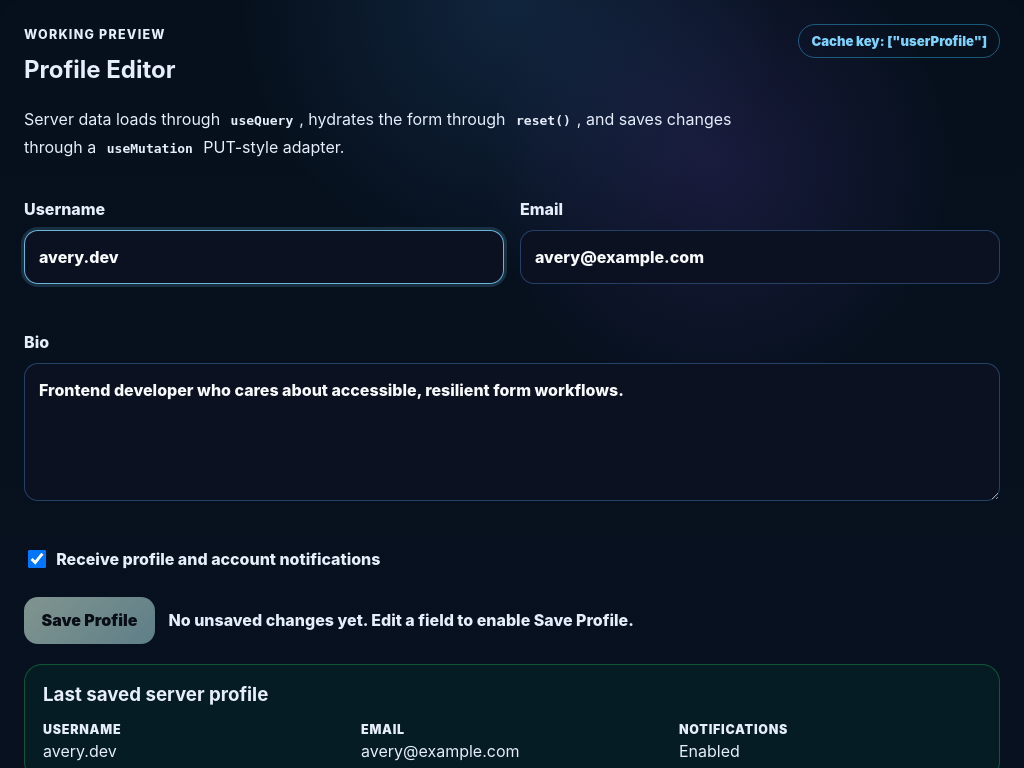
Scenario: Week 7 Assignment 3 - React Hook Form with TanStack Query › edge case: keeps Save Profile disabled until the form is dirty
This screenshot has width=1024, height=768.
Expected: the button "Save Profile" is disabled, [24, 597, 155, 644]
Replace the text in the field labelled "Username" with "avery.updated" at (264, 257), box [24, 230, 504, 284]
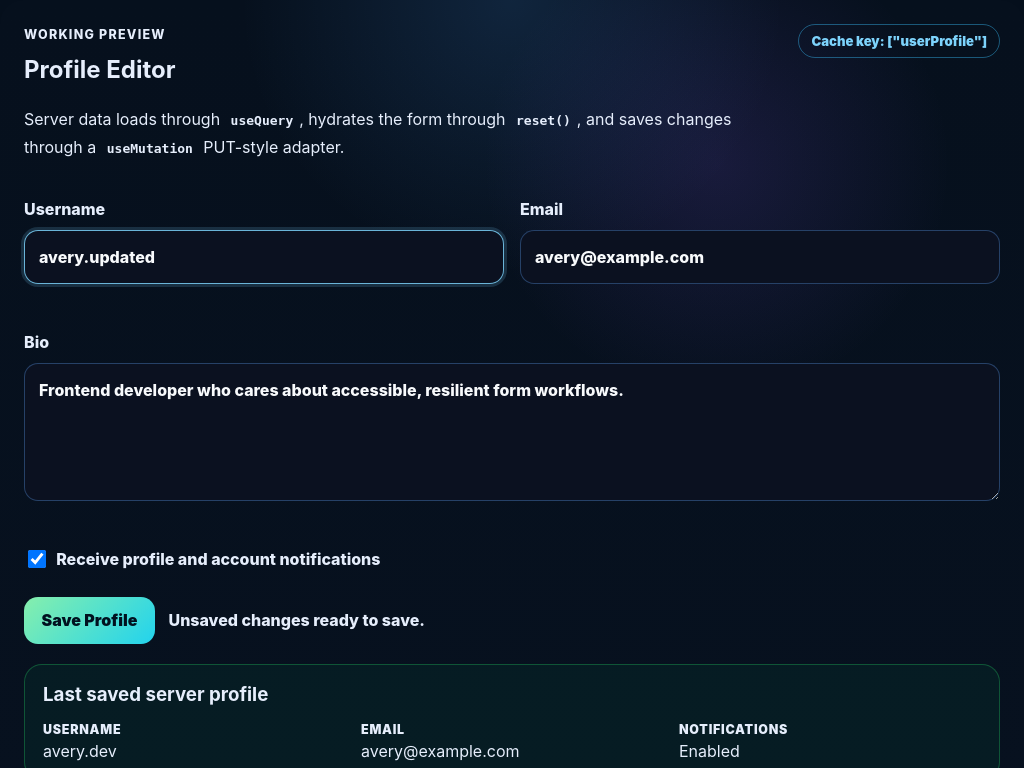
Expected: the button "Save Profile" is enabled, [24, 597, 155, 644]
